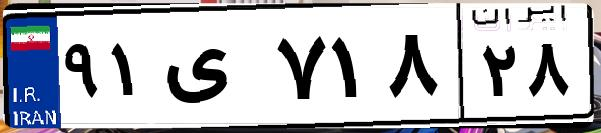1: (330, 28, 385, 110), (110, 28, 158, 98)
2: (475, 38, 525, 113)
7: (270, 28, 330, 110)
8: (385, 28, 445, 110), (525, 38, 570, 115)
9: (57, 26, 110, 100)
ی: (158, 20, 270, 120)
